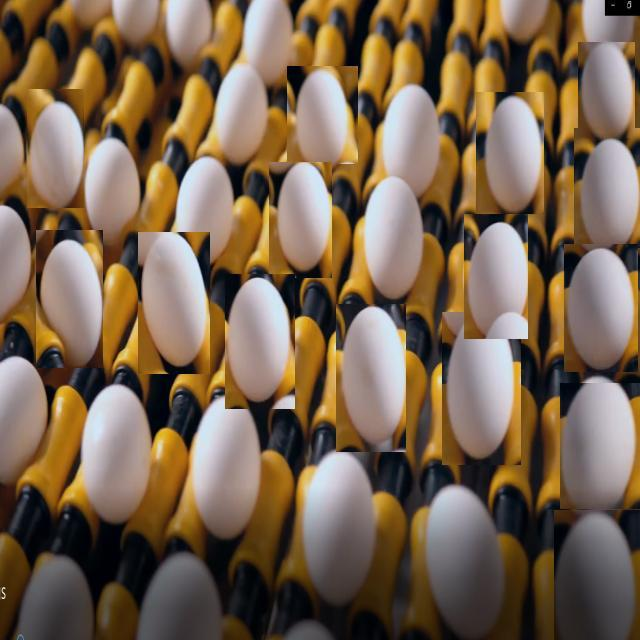Egg: (419, 479, 519, 640), (191, 390, 267, 560), (304, 444, 376, 614), (442, 312, 521, 465), (79, 382, 157, 529), (554, 510, 640, 640), (336, 304, 406, 452), (138, 232, 210, 374), (560, 383, 640, 509), (169, 139, 249, 262), (564, 244, 638, 372), (225, 274, 295, 409), (36, 230, 103, 368), (361, 177, 432, 302), (137, 545, 226, 640), (476, 92, 544, 214), (464, 214, 528, 339), (574, 128, 640, 248), (0, 341, 49, 501), (207, 44, 275, 158), (380, 82, 448, 196), (269, 162, 332, 278), (82, 128, 143, 247), (287, 66, 358, 165), (27, 89, 84, 208), (578, 42, 635, 138), (243, 3, 298, 89), (0, 197, 31, 323)
